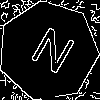N: (23, 25, 78, 84)
